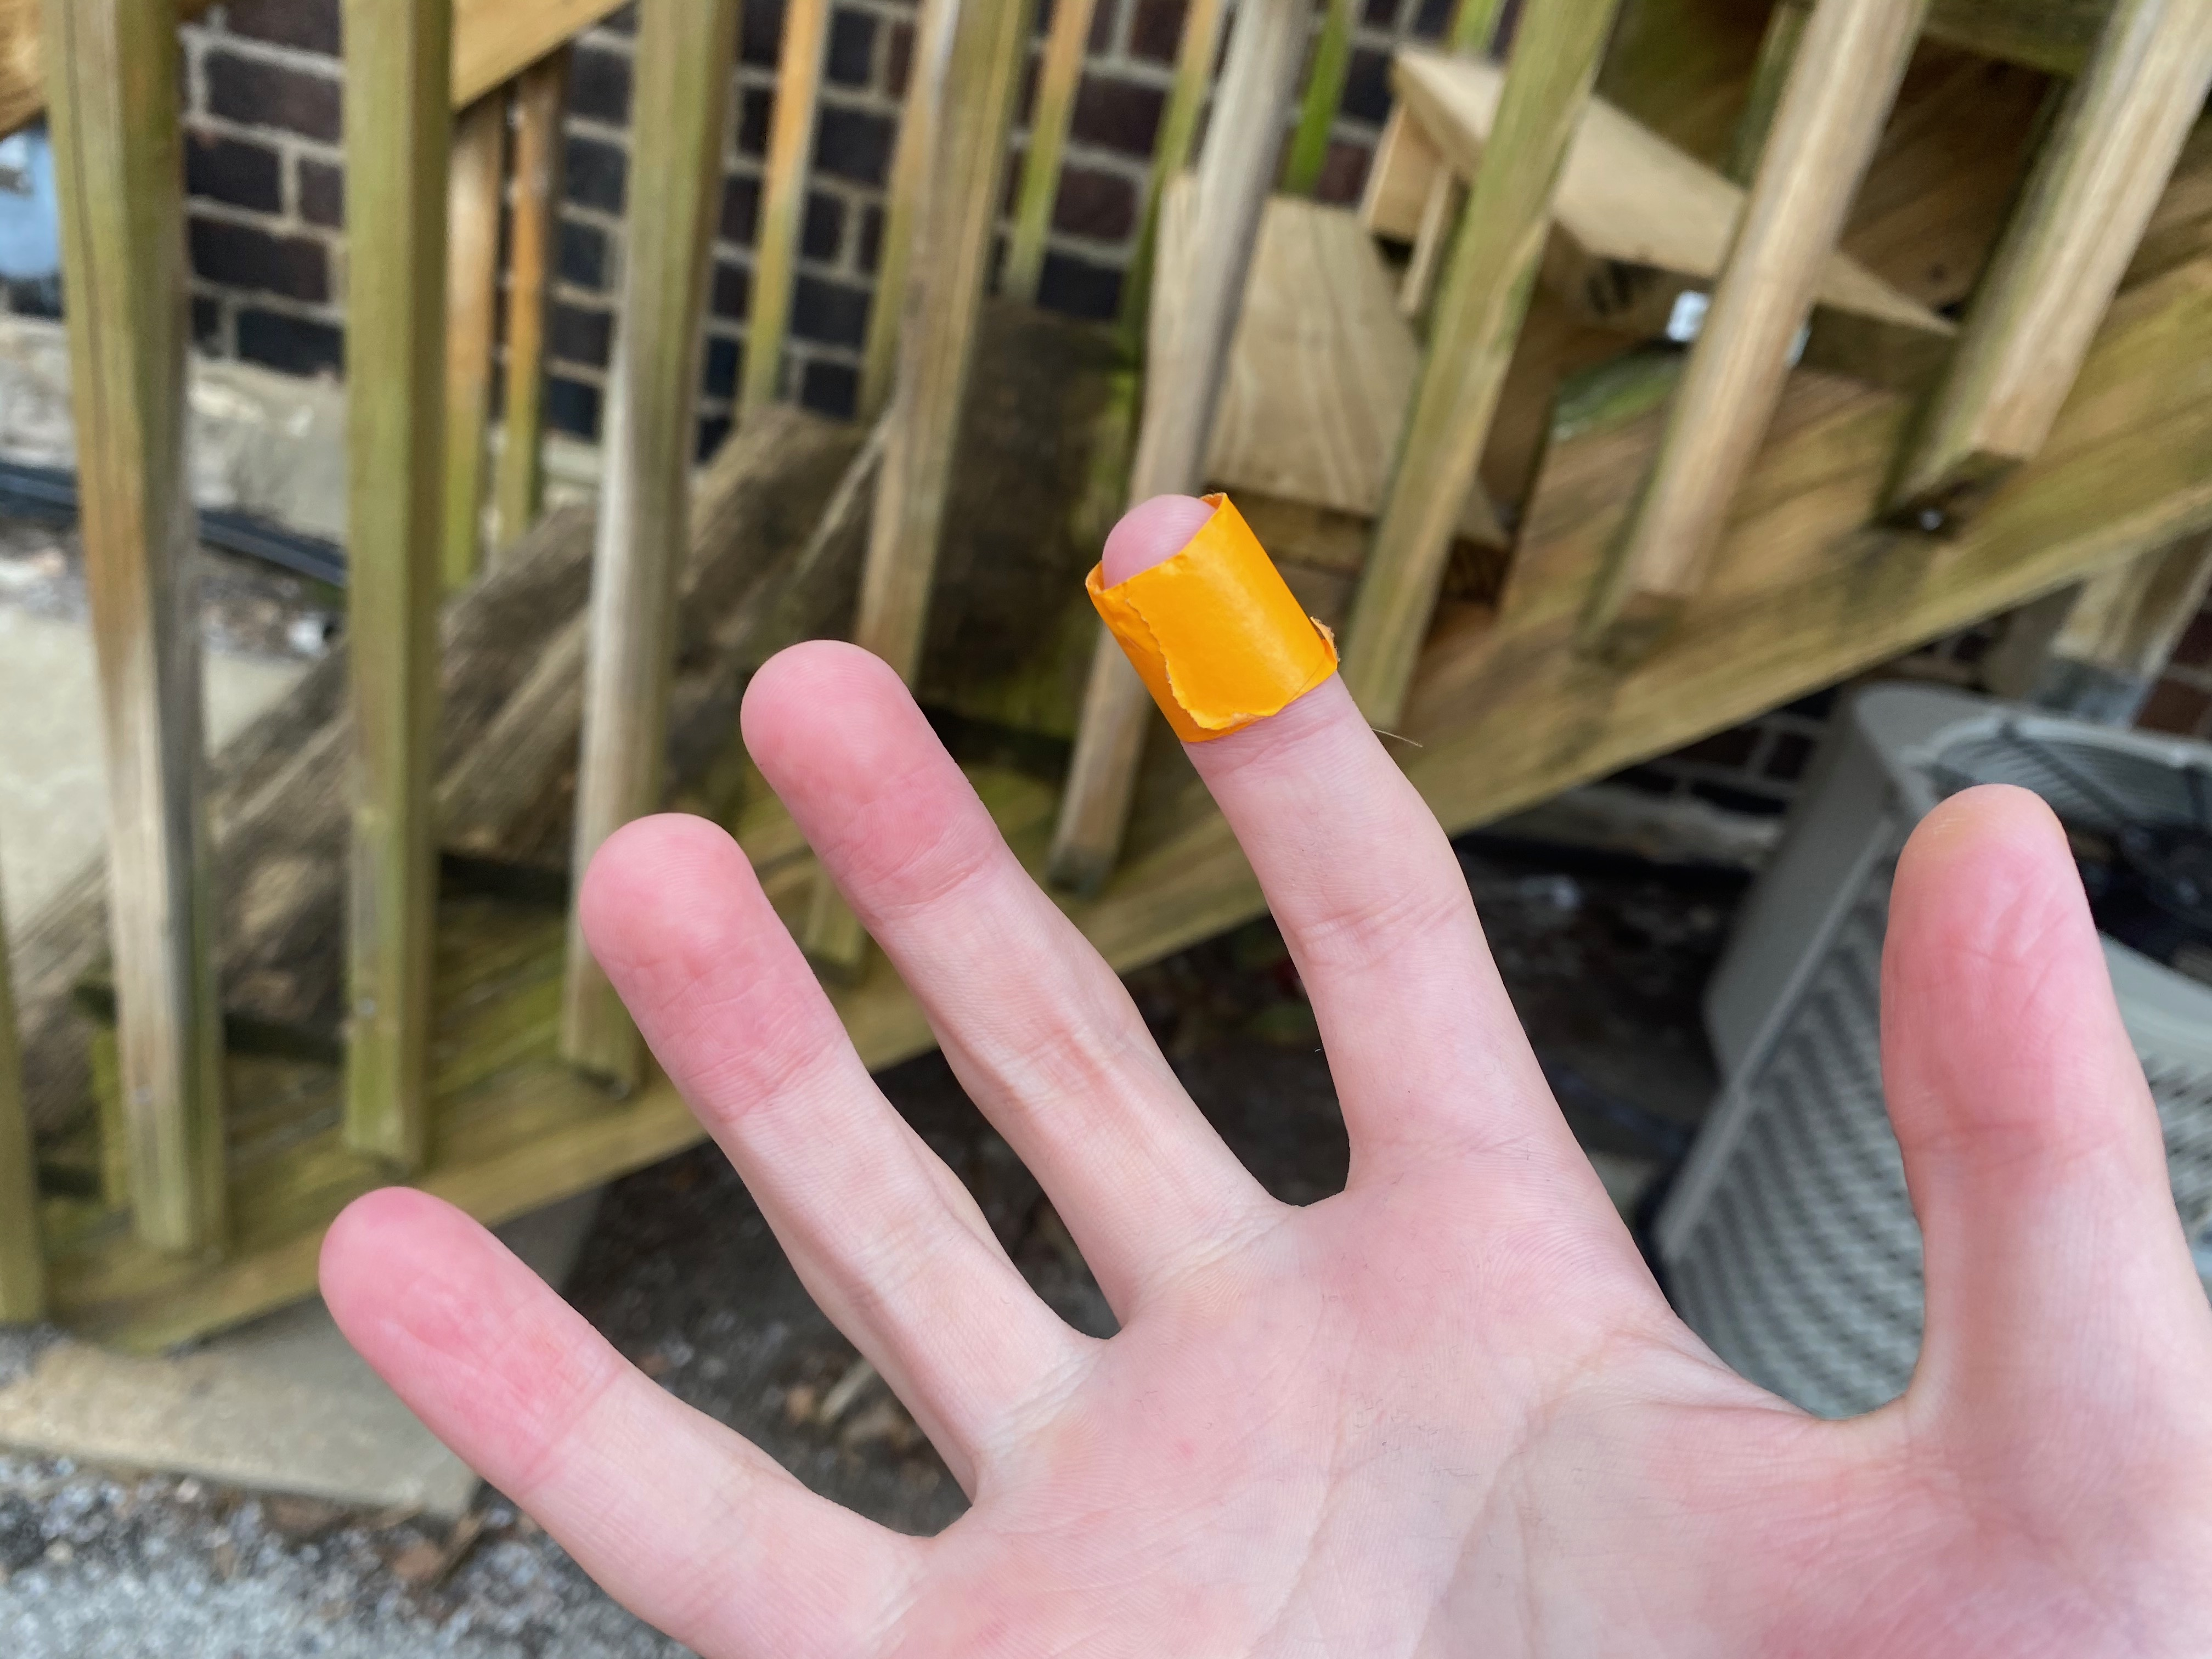fingertip: (1057, 483, 1345, 777)
